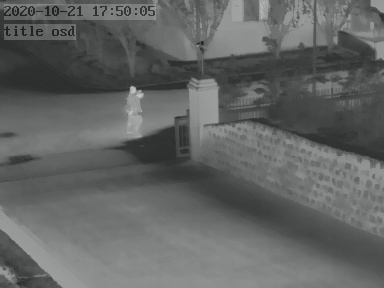person: (121, 83, 144, 134)
